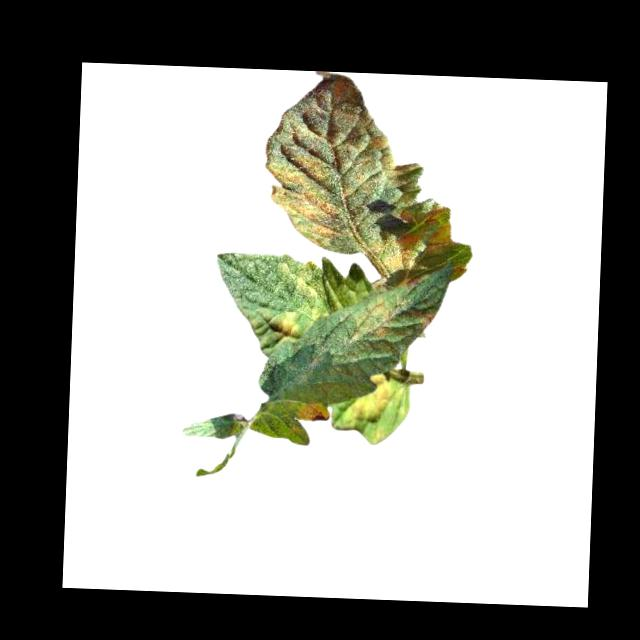Leaf_Mold: (260, 70, 462, 262), (352, 296, 401, 344), (349, 371, 396, 421), (291, 261, 323, 301), (272, 308, 301, 341), (298, 400, 330, 422), (414, 305, 438, 331)
